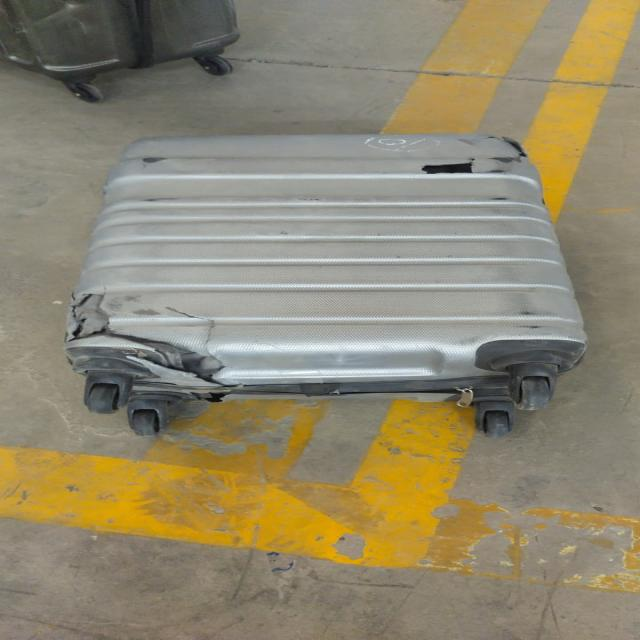Damage-bag: (118, 336, 222, 386), (67, 294, 108, 339), (422, 162, 472, 174), (500, 138, 528, 156)
